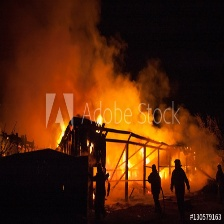fire: (121, 147, 156, 177), (52, 120, 69, 149), (157, 166, 168, 180), (96, 114, 103, 127)
smoke: (6, 1, 208, 132)
